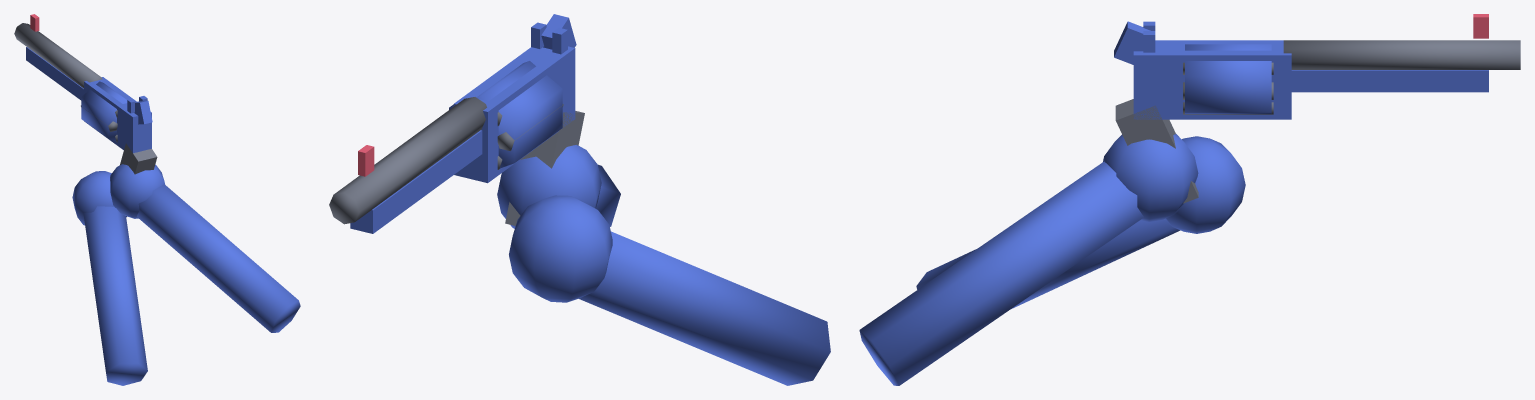
Rendered from revolver.glb.
3 views of the same model, side by side, from view 1: azimuth 30°, elevation 25°; view 2: azimuth 150°, elevation 25°; view 3: azimuth 270°, elevation 25° (orthographic). The views are drawn at different scales.
Parts seen in each view (by area): view 1: hand_R_arm, hand_L, hand_R_fist, frame, barrel, hand_L_fist, cyl_body, topstrap, grip, hammer; view 2: hand_L, hand_L_fist, barrel, frame, hand_R_fist, cyl_body, topstrap, grip, hand_R_arm, hammer, sight_front; view 3: hand_R_arm, frame, barrel, hand_R_fist, cyl_body, topstrap, hand_L_fist, hand_L, grip, hammer.
Part boxes in pixels (x1=…): hand_R_arm: x1=137, y1=184, x2=300, y2=332; hand_L: x1=83, y1=206, x2=147, y2=385; hand_R_fist: x1=110, y1=164, x2=164, y2=218; frame: x1=84, y1=77, x2=151, y2=153; barrel: x1=14, y1=23, x2=102, y2=88; hand_L_fist: x1=72, y1=171, x2=126, y2=225; cyl_body: x1=81, y1=81, x2=127, y2=141; topstrap: x1=26, y1=47, x2=83, y2=100; grip: x1=120, y1=143, x2=157, y2=174; hammer: x1=134, y1=100, x2=152, y2=124; hand_L: x1=579, y1=231, x2=830, y2=385; hand_L_fist: x1=509, y1=195, x2=612, y2=302; barrel: x1=329, y1=97, x2=486, y2=224; frame: x1=454, y1=46, x2=575, y2=183; hand_R_fist: x1=497, y1=145, x2=601, y2=228; cyl_body: x1=449, y1=61, x2=562, y2=168; topstrap: x1=350, y1=130, x2=482, y2=233; grip: x1=505, y1=111, x2=584, y2=225; hand_R_arm: x1=596, y1=164, x2=620, y2=226; hammer: x1=541, y1=14, x2=576, y2=49; sight_front: x1=358, y1=145, x2=374, y2=176; hand_R_arm: x1=859, y1=161, x2=1143, y2=385; frame: x1=1133, y1=40, x2=1291, y2=119; barrel: x1=1283, y1=40, x2=1520, y2=69; hand_R_fist: x1=1103, y1=134, x2=1198, y2=221; cyl_body: x1=1185, y1=44, x2=1271, y2=113; topstrap: x1=1291, y1=70, x2=1488, y2=92; hand_L_fist: x1=1166, y1=136, x2=1245, y2=233; hand_L: x1=916, y1=218, x2=1179, y2=308; grip: x1=1115, y1=99, x2=1198, y2=203; hammer: x1=1114, y1=21, x2=1150, y2=64.
Size of the model in its own units: 0.4193 by 0.5265 by 0.8372.
